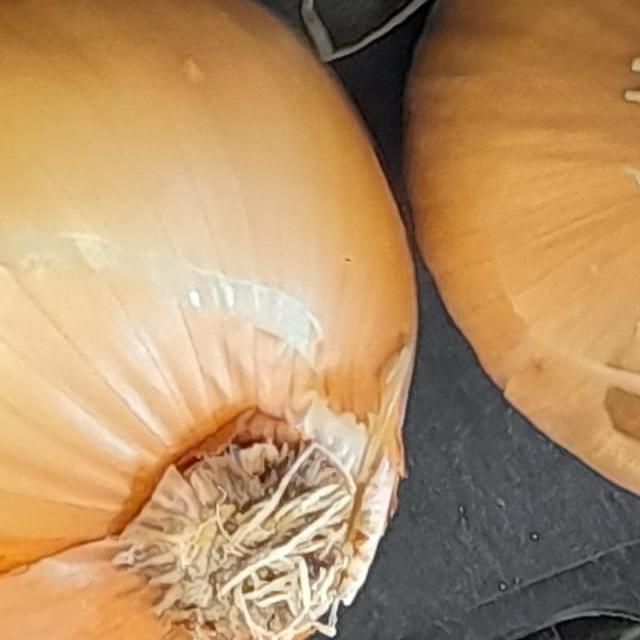onion: (0, 0, 410, 640), (395, 0, 640, 560)
